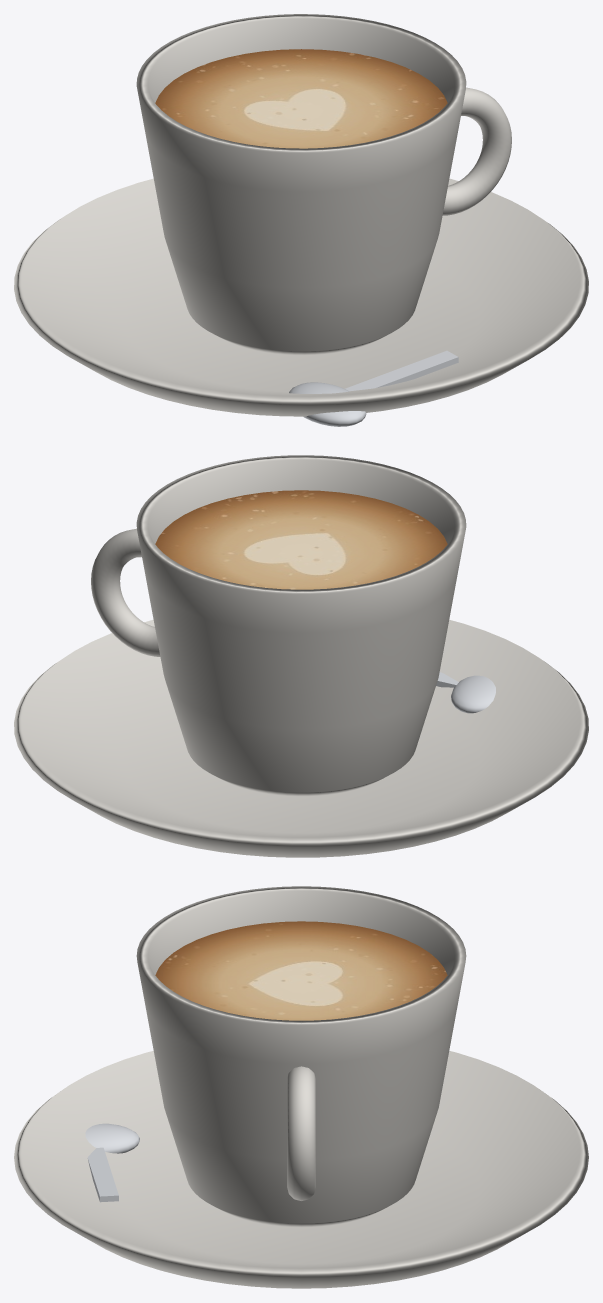
File: cafeConLeche.glb
3 renders of one model, top to bottom at view 1: azimuth 30°, elevation 25°; view 2: azimuth 150°, elevation 25°; view 3: azimuth 270°, elevation 25°, orthographic.
Size of the model in its own units: 0.15 by 0.072 by 0.15.
Materials: 4 (1 with a texture image).
